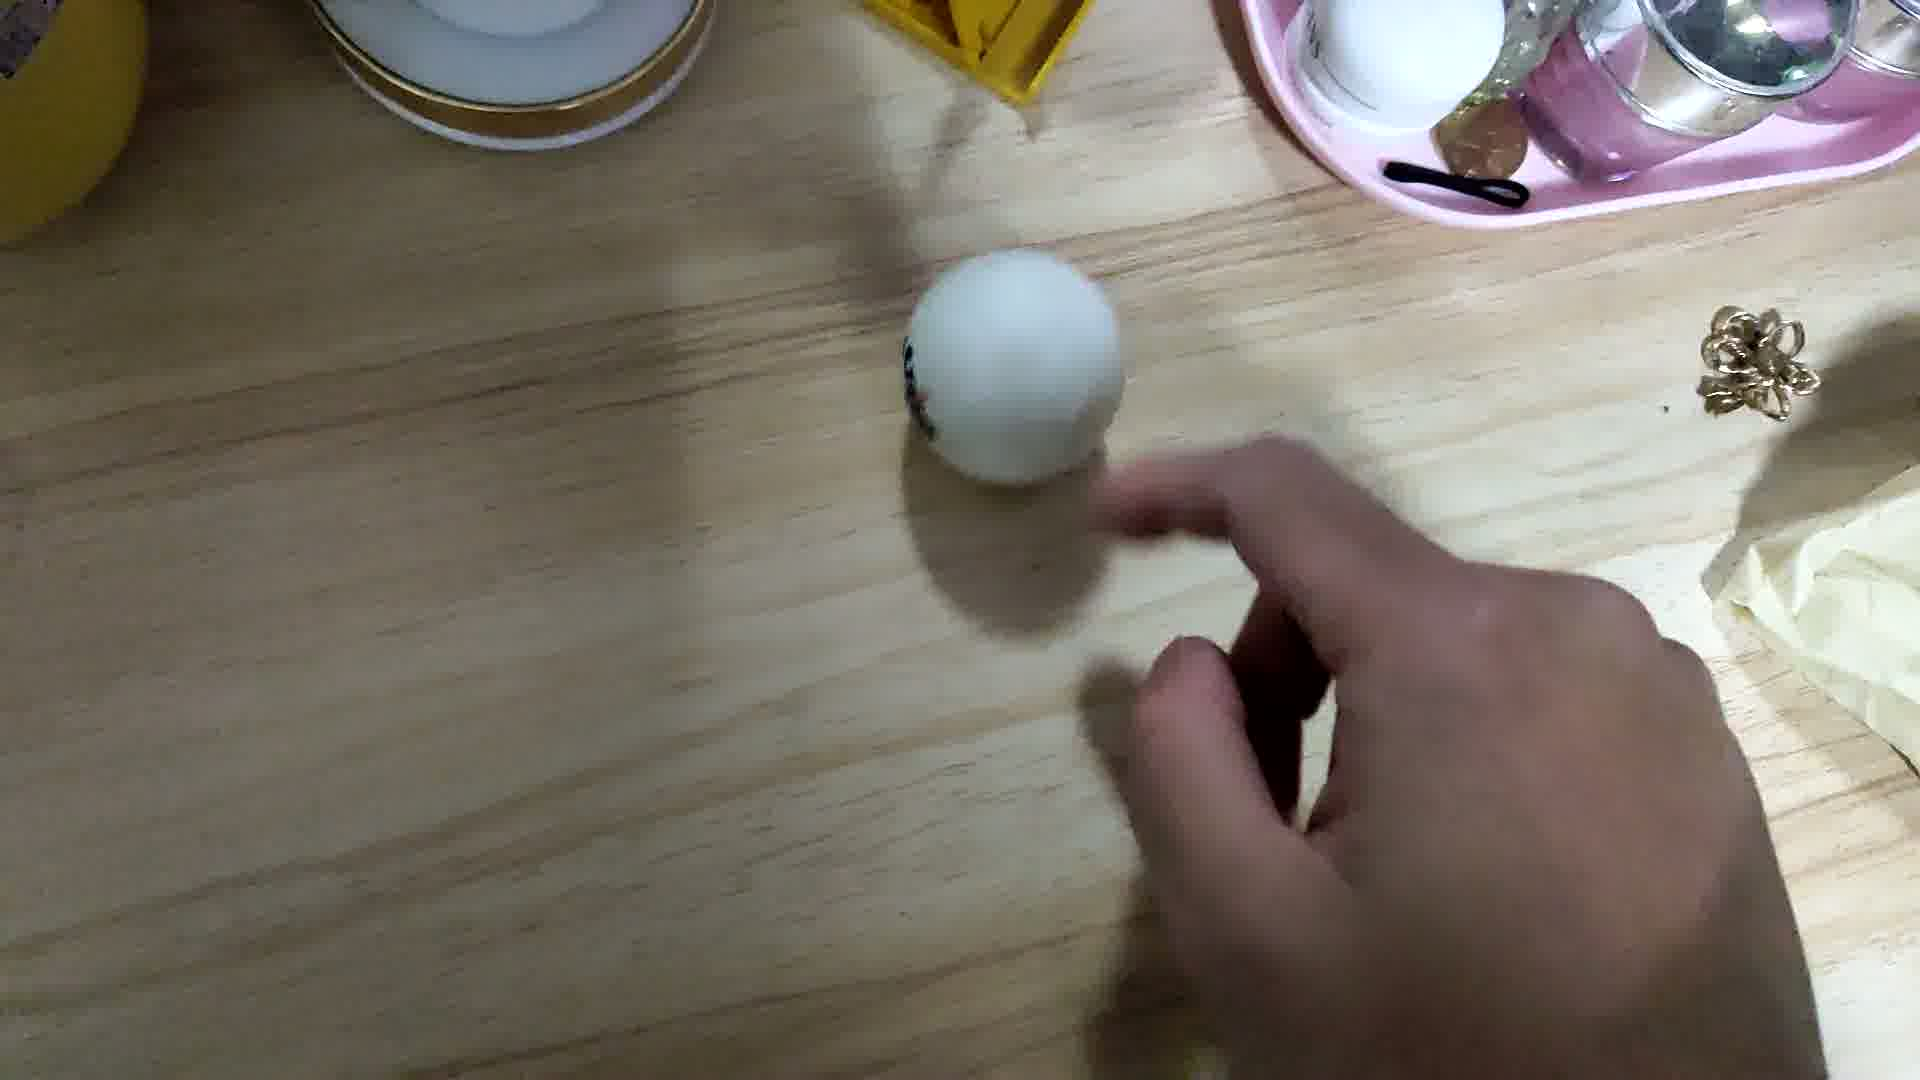Ball: (895, 245, 1127, 485)
